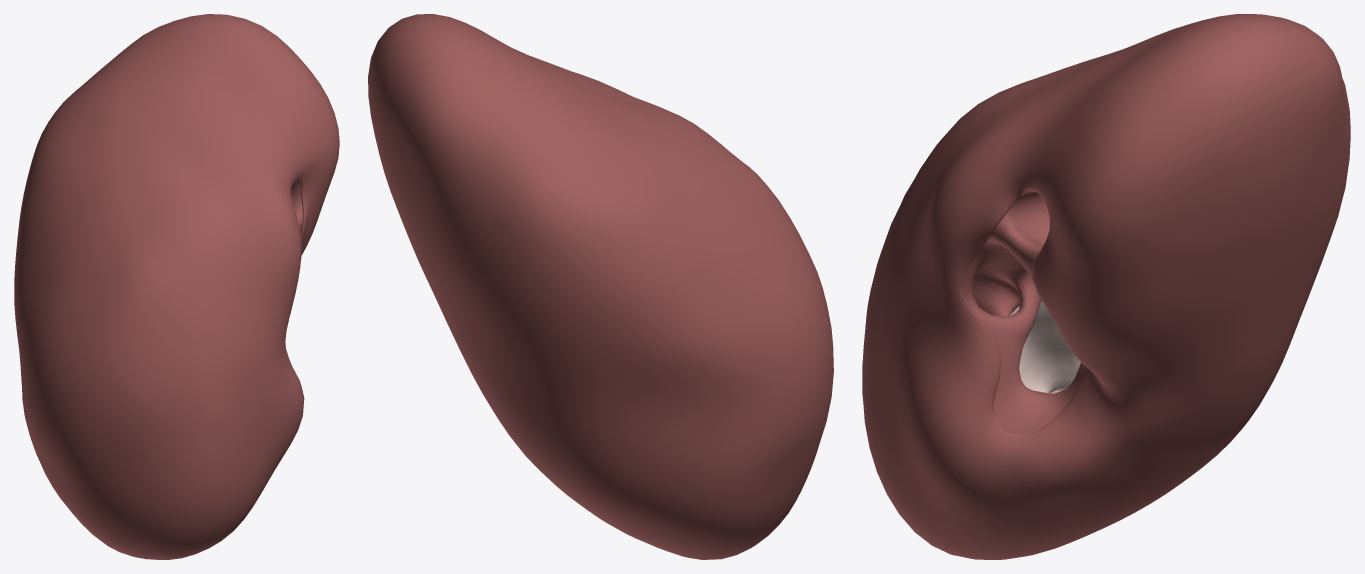
Rendered from VH_F_Kidney_R.glb.
3 views of the same model, side by side, from view 1: azimuth 30°, elevation 25°; view 2: azimuth 150°, elevation 25°; view 3: azimuth 270°, elevation 25° (orthographic). The views are drawn at different scales.
Visible parts, largest first — view 1: VH_F_kidney_capsule_R; view 2: VH_F_kidney_capsule_R; view 3: VH_F_kidney_capsule_R, VH_F_hilum_of_kidney_R, VH_F_renal_column_R.
Part boxes in pixels (left/top/right/bottom): VH_F_kidney_capsule_R: left=14, top=14, right=339, bottom=559; VH_F_kidney_capsule_R: left=368, top=14, right=833, bottom=559; VH_F_kidney_capsule_R: left=862, top=14, right=1350, bottom=559; VH_F_hilum_of_kidney_R: left=961, top=189, right=1086, bottom=434; VH_F_renal_column_R: left=1010, top=301, right=1080, bottom=393.
Size of the model in its own units: 0.0734 by 0.0979 by 0.0695.
